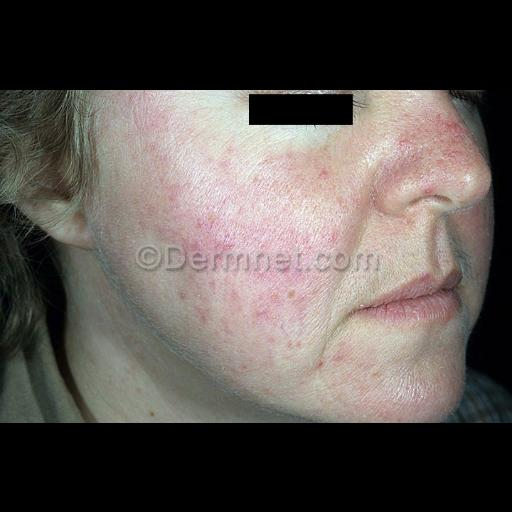Skin_Lesion: (180, 218, 242, 254), (282, 278, 308, 306), (434, 116, 458, 142), (72, 206, 92, 236), (330, 338, 352, 364), (224, 273, 244, 301), (202, 268, 222, 294), (196, 304, 212, 328), (382, 162, 400, 182), (254, 304, 270, 326), (126, 88, 144, 104), (324, 229, 340, 245), (175, 286, 189, 304), (423, 180, 441, 192), (394, 132, 412, 144), (318, 168, 332, 178), (224, 146, 236, 154)
